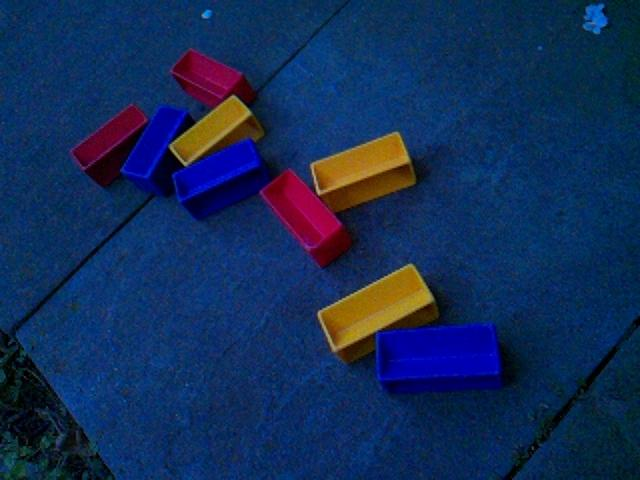blue: (374, 321, 504, 394), (171, 137, 269, 221), (120, 103, 191, 196)
red: (258, 167, 354, 269), (70, 102, 149, 188), (170, 47, 257, 109)
yellow: (316, 262, 440, 362), (309, 130, 418, 214), (169, 94, 265, 168)
